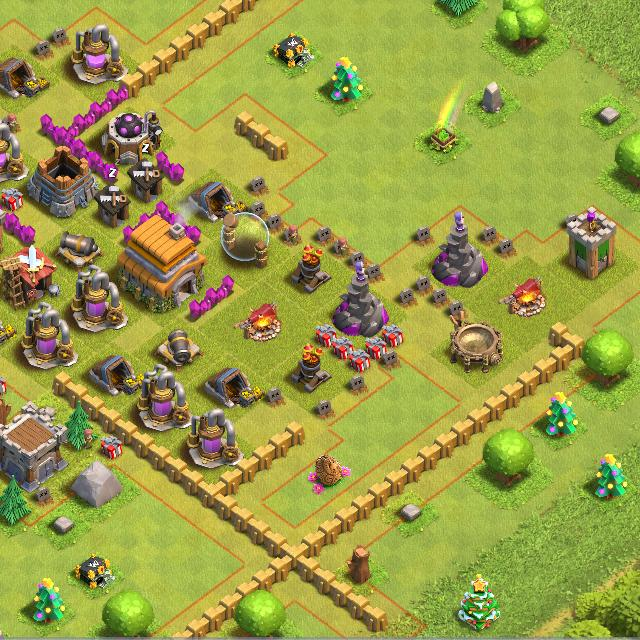Arqueira: (568, 206, 618, 279)
Canhao: (156, 326, 203, 370), (59, 229, 105, 269)
